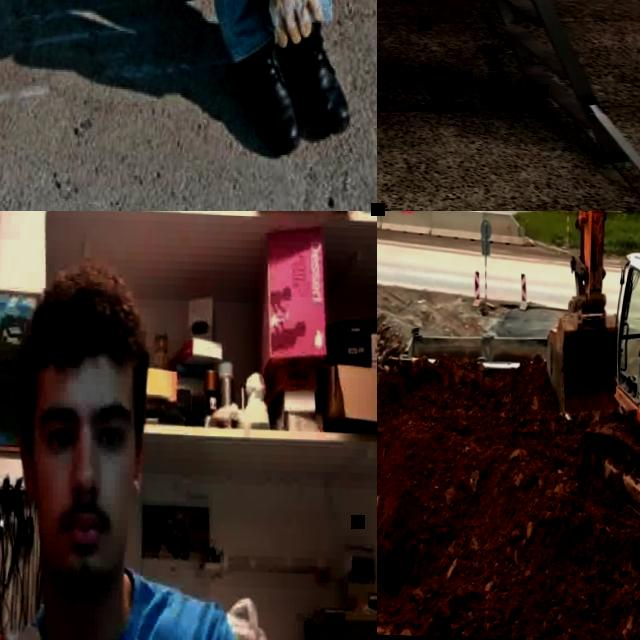machinery: (535, 211, 640, 593)
no_helmet: (26, 265, 142, 390)
no_mask: (34, 501, 128, 590)
no_vest: (0, 581, 188, 640)
person: (0, 255, 272, 640), (141, 0, 366, 156)
